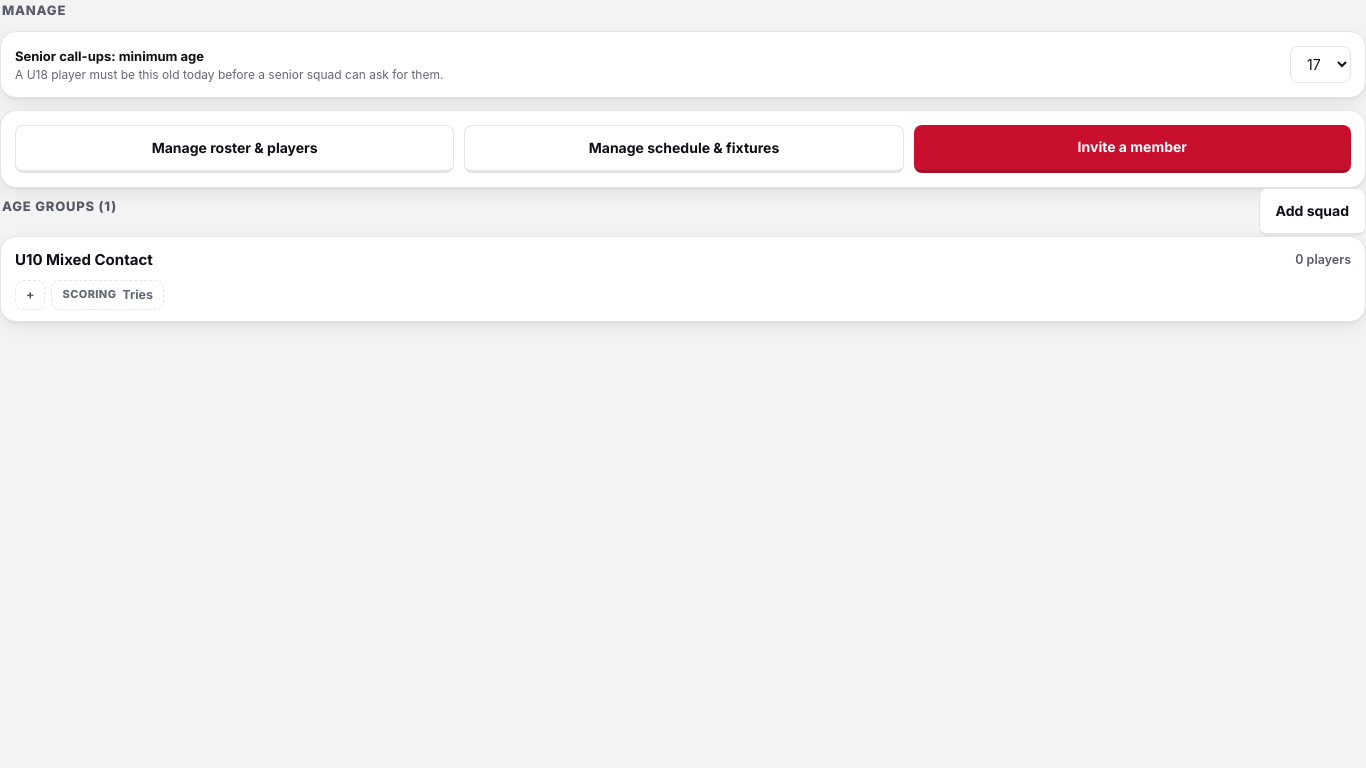
AdminClub — add a squad › shows a thrown message inline on a refused save
Step 1. Click the button "Add squad" → (1312, 212), box [1259,188,1365,236]
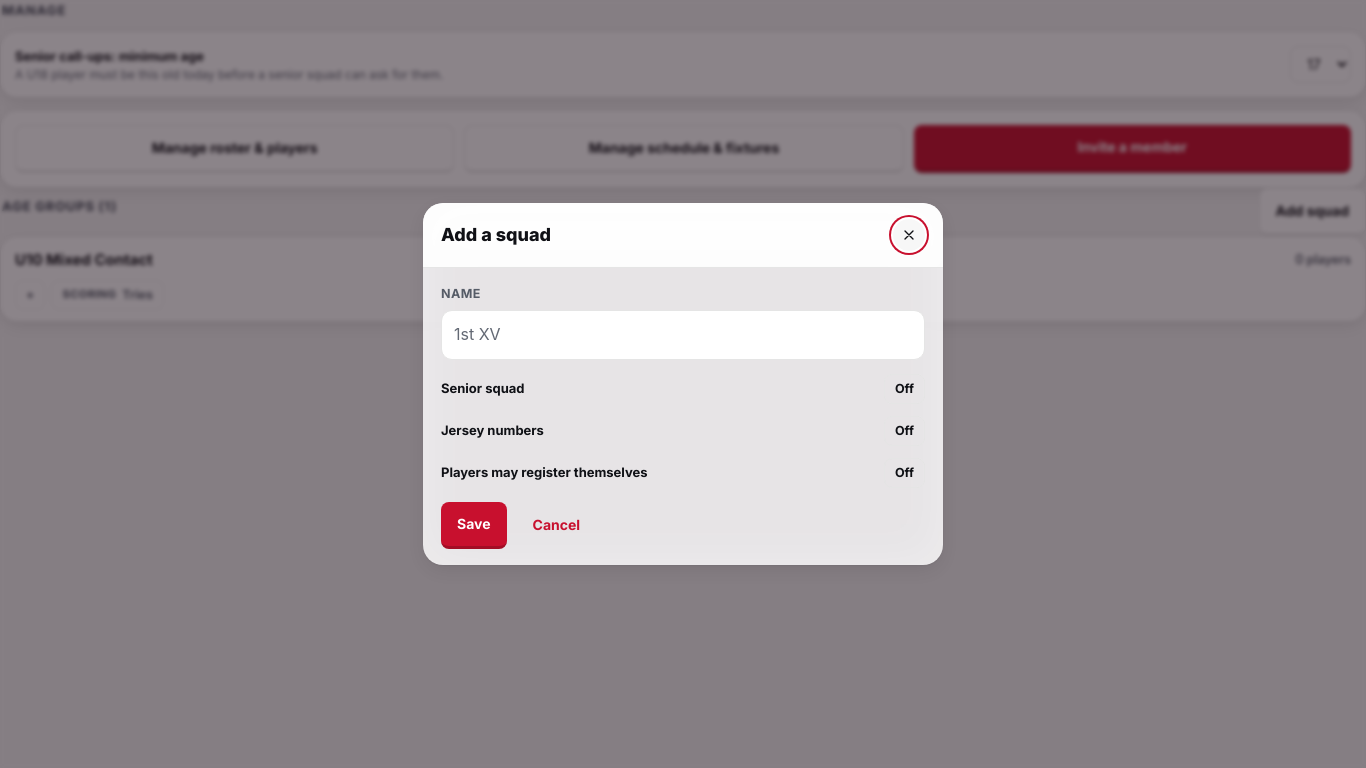
Step 2. Type "Harness Senior A" into the field named "Squad name" → (683, 335), box [441,310,925,360]
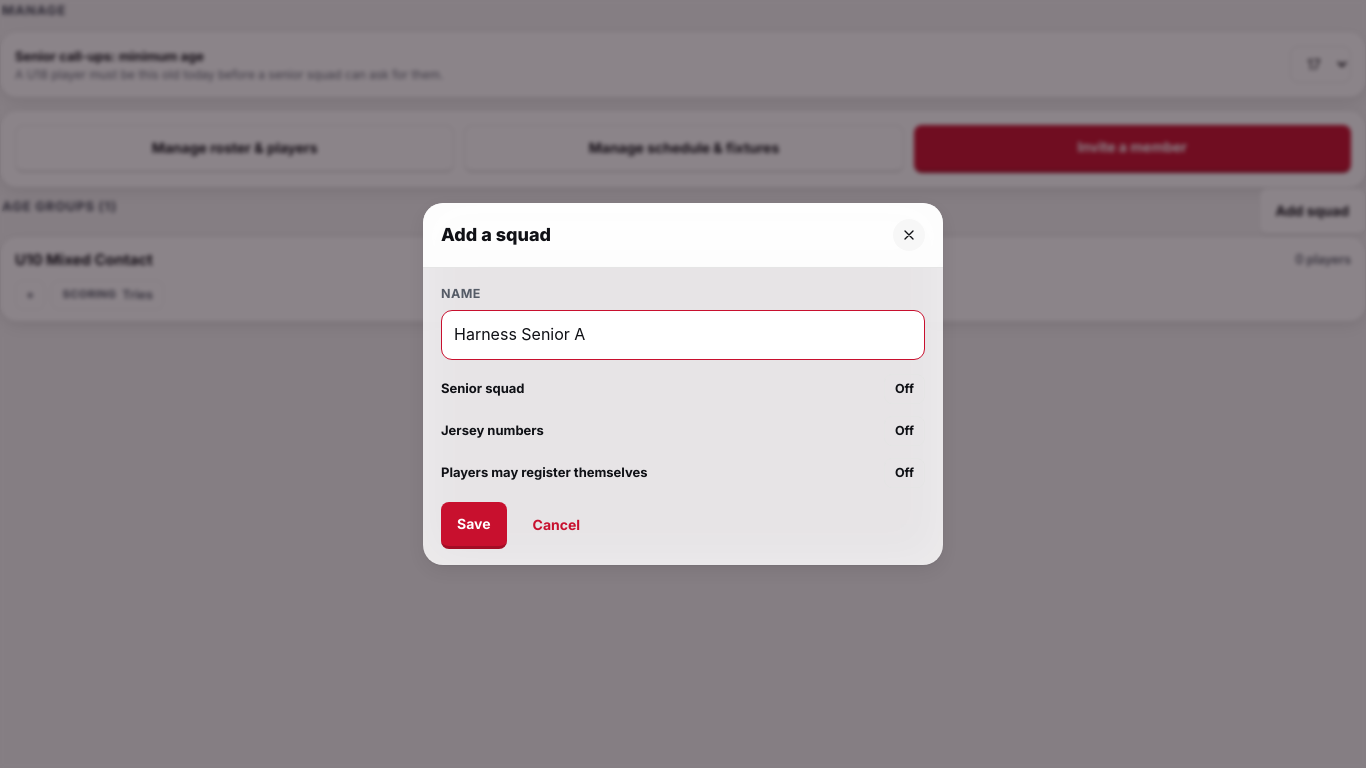
Step 3. Click the button "Save" → (474, 525), box [441,502,506,549]
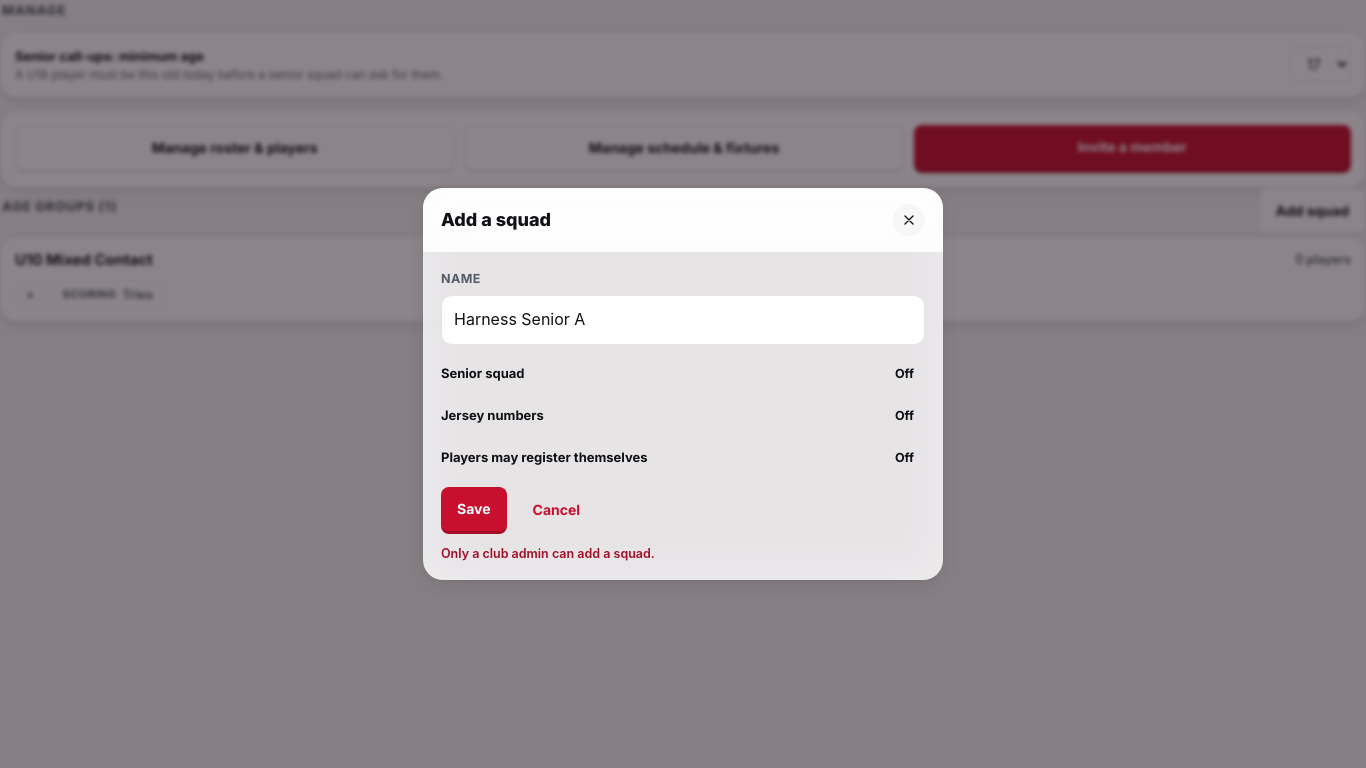
Expected: the dialog "Add a squad" is shown, [423,188,943,580]
Expected: the text "Only a club admin can add a squad." is shown, [441,546,655,561]
